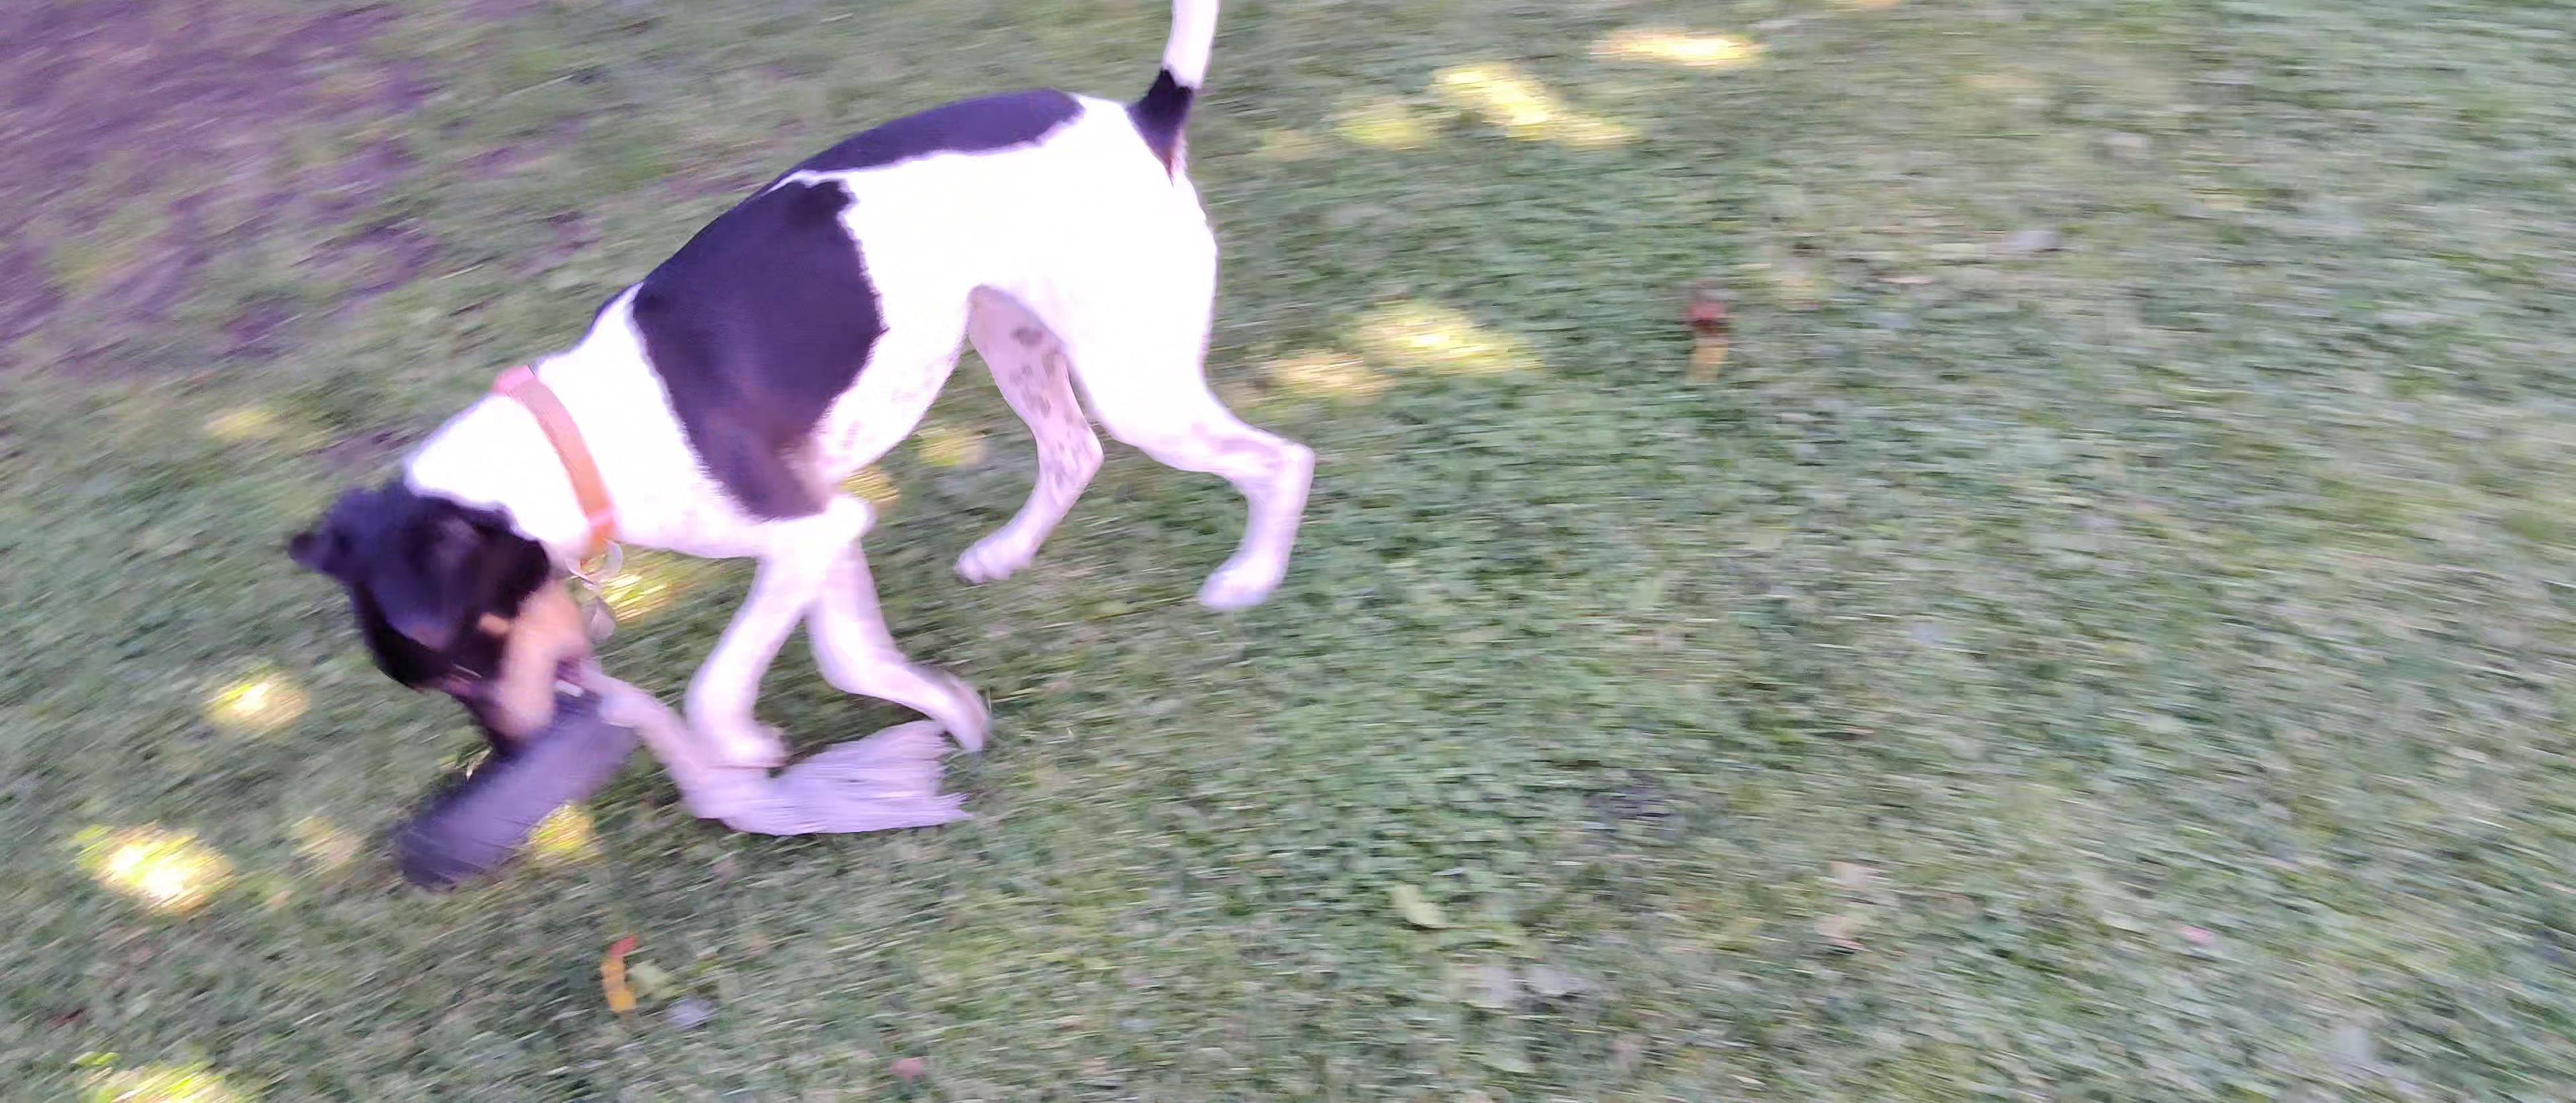Dog: (269, 0, 1327, 799)
